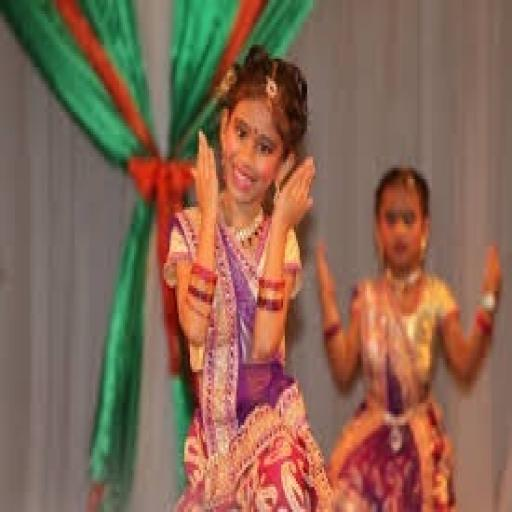dancing: (160, 42, 337, 509), (312, 162, 504, 509)
